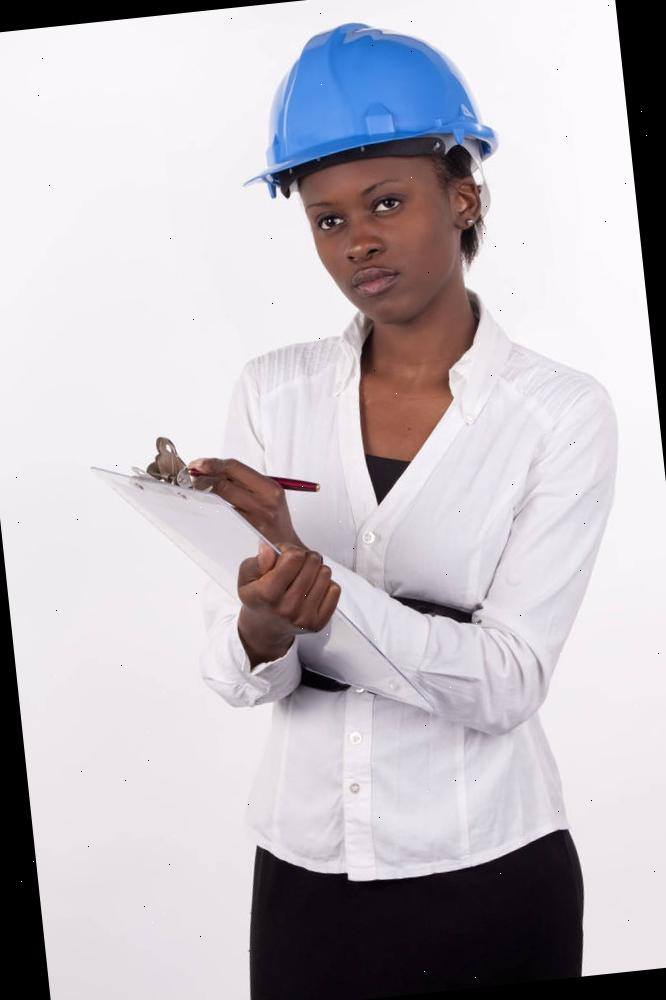helmet: (222, 5, 508, 198)
no_wear: (198, 298, 654, 876)
